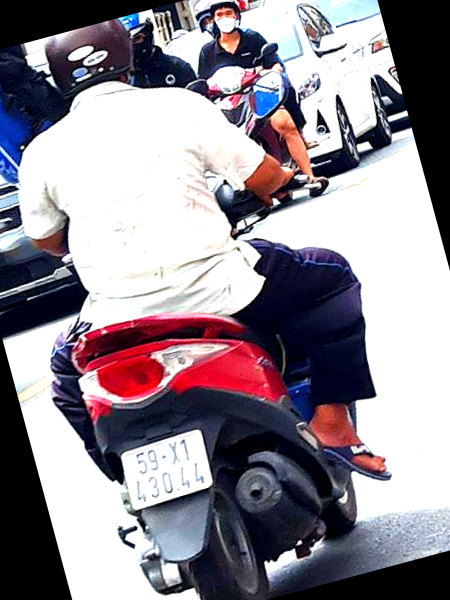number: (124, 434, 213, 509)
